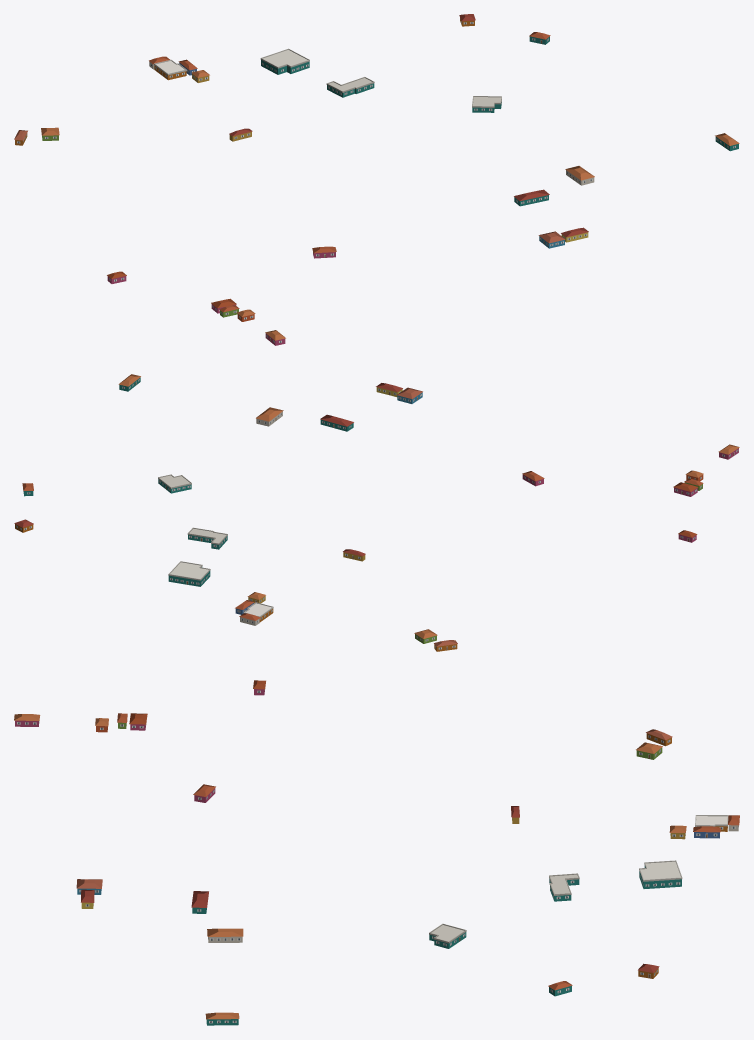
File: msb_noord_m14_m6.glb
3 views of the same model, one above another, from view 1: azimuth 30°, elevation 25°; view 2: azimuth 150°, elevation 25°; view 3: azimuth 270°, elevation 25° (orthographic). The views are drawn at different scales.
Parts seen in each view (by area): view 1: msb_noord_m14_m6_lod0; view 2: msb_noord_m14_m6_lod0; view 3: msb_noord_m14_m6_lod0.
Part boxes in pixels (left/top/right/bottom): msb_noord_m14_m6_lod0: left=14, top=14, right=739, bottom=345; msb_noord_m14_m6_lod0: left=14, top=374, right=739, bottom=651; msb_noord_m14_m6_lod0: left=14, top=680, right=739, bottom=1025.
Size of what is drawn, in the model's own units: 399 by 14.11 by 358.
Materials: 3 (1 with a texture image).
